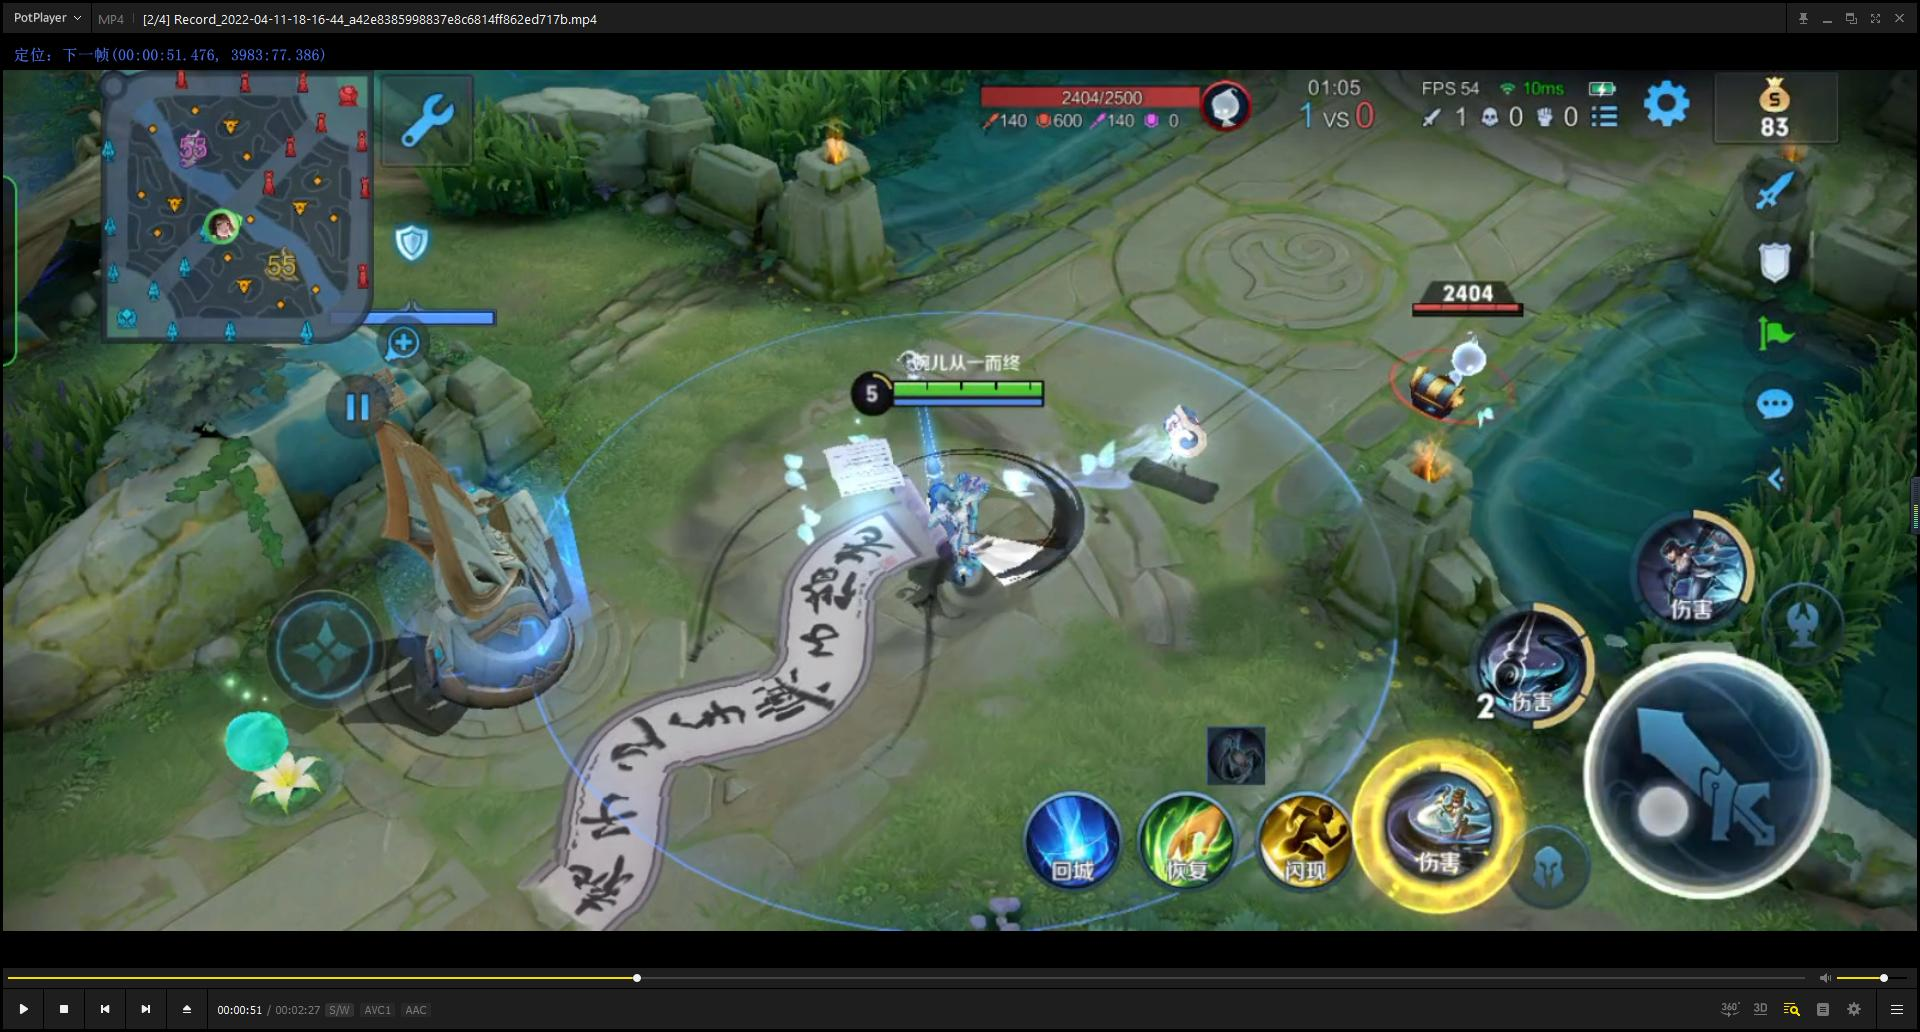Hero: (897, 458, 1022, 599)
Spirit: (1367, 280, 1571, 431)
Tower: (333, 295, 614, 738)
